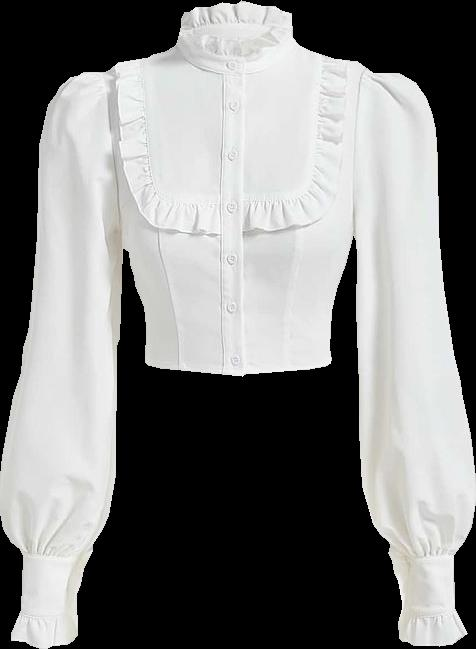Bodice: (103, 1, 365, 375)
Neckline: (137, 55, 331, 209), (179, 12, 293, 41)
Sleeve: (0, 72, 123, 648), (354, 67, 475, 646)
Sleeveline: (101, 73, 127, 239), (352, 72, 373, 234), (23, 544, 92, 560), (387, 547, 455, 559)
Waistline: (112, 59, 352, 238), (143, 357, 332, 376)
